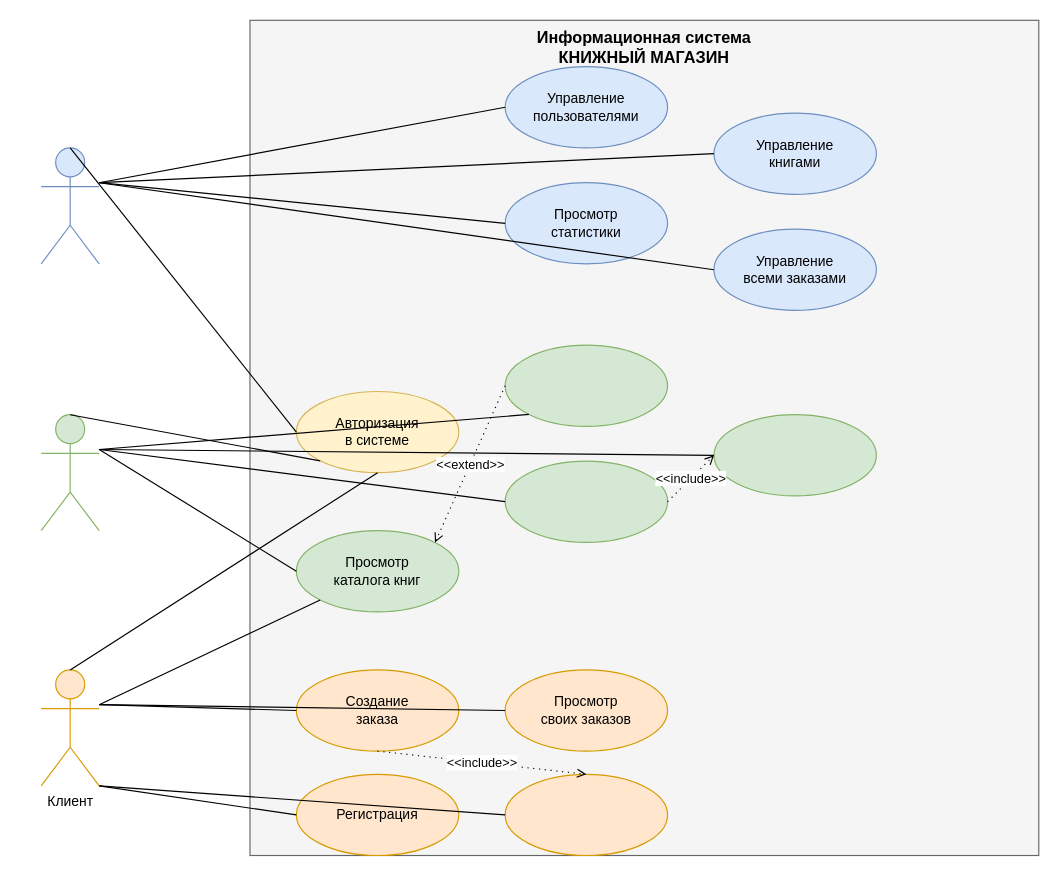
Some shapes in this 1059 by 876 pixel diagram are drawn without their labels. The shapes that lost their labels are listed below. From the top down, each one's box as (x1, y1, x2, y2) in pixels, then its label:
(40, 147, 99, 264): Администратор
(504, 344, 668, 426): Поиск книг
(40, 414, 99, 531): Продавец
(713, 414, 876, 496): Изменение статуса заказа
(504, 460, 668, 542): Обработка заказов
(504, 773, 668, 855): Добавление в корзину
